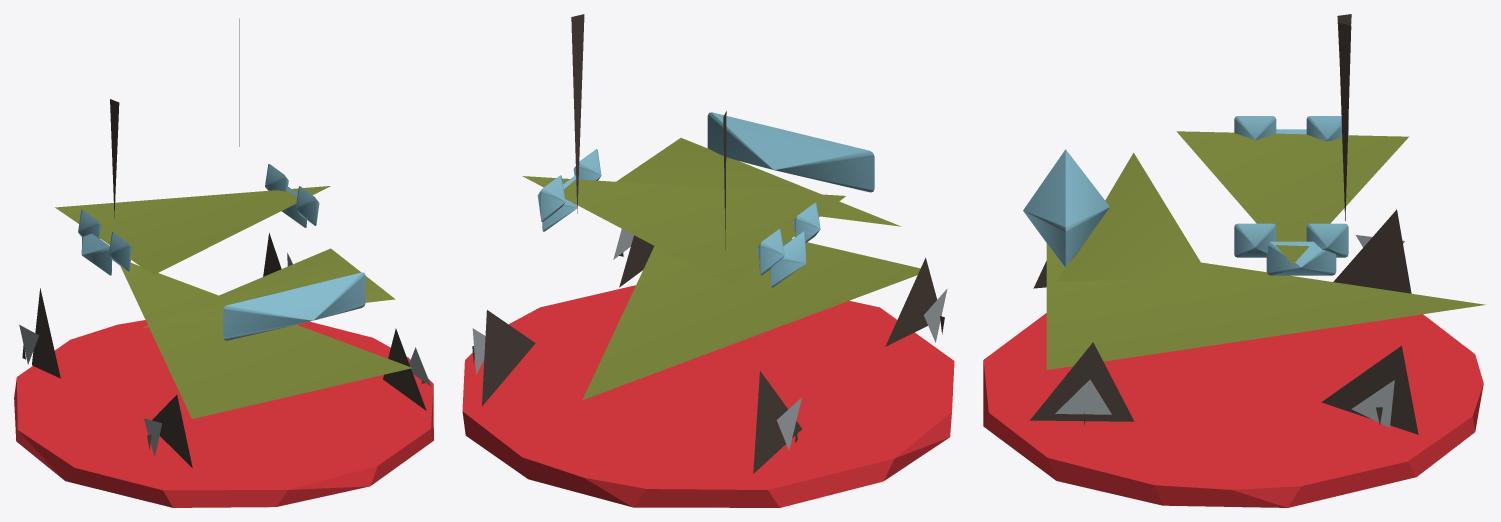
Rendered from india_headquarters_lod1.glb.
The picture shows the model from 3 angles, left to right: view 1: azimuth 30°, elevation 25°; view 2: azimuth 150°, elevation 25°; view 3: azimuth 270°, elevation 25°; orthographic projection. The views are drawn at different scales.
Parts seen in each view (by area): view 1: base_pedestal, body_hull; view 2: base_pedestal, body_hull; view 3: body_hull, base_pedestal.
Boxes of the visible parts, <box> form: base_pedestal: <box>14,320,433,507</box>; body_hull: <box>19,18,431,467</box>; base_pedestal: <box>462,285,954,507</box>; body_hull: <box>472,14,947,473</box>; body_hull: <box>1023,14,1485,434</box>; base_pedestal: <box>983,313,1483,507</box>.
Size of the model in its own units: 0.7751 by 0.7101 by 0.7793.
